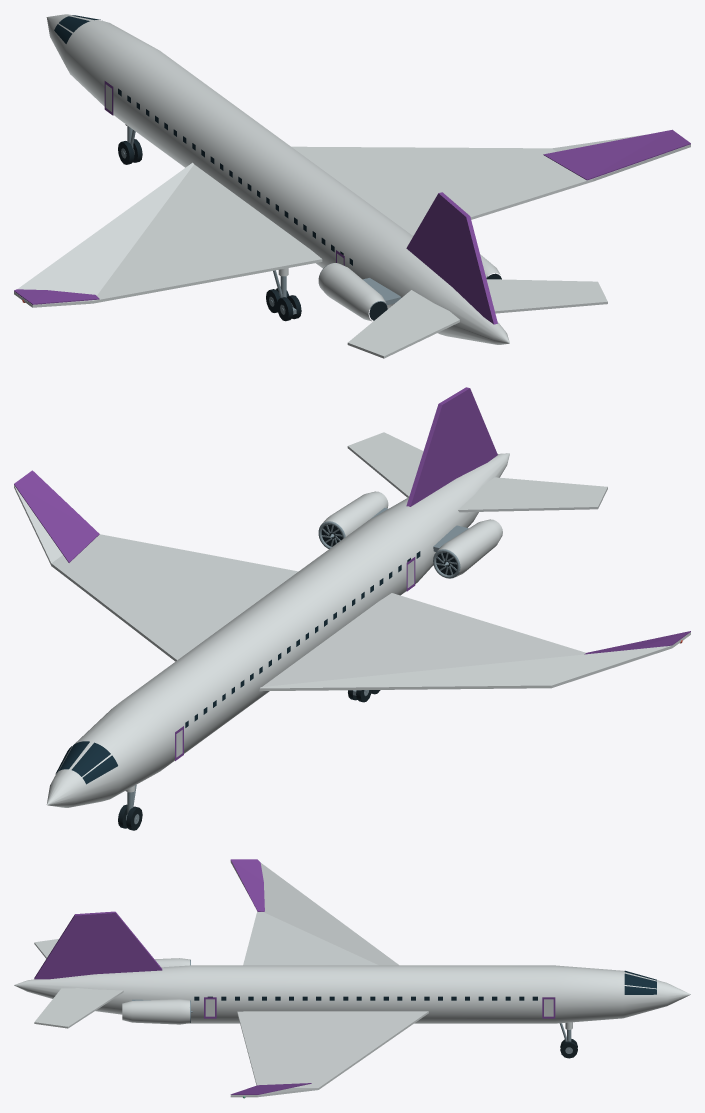
3 renders of one model, top to bottom at view 1: azimuth 30°, elevation 25°; view 2: azimuth 150°, elevation 25°; view 3: azimuth 270°, elevation 25°, orthographic. The views are drawn at different scales.
Visible parts, largest first — view 1: 银燕 J-90 original airliner, landing-gear; view 2: 银燕 J-90 original airliner, landing-gear; view 3: 银燕 J-90 original airliner, landing-gear.
Part boxes in pixels (x1,y1,x2,y2): 银燕 J-90 original airliner: (14, 14, 690, 358); landing-gear: (118, 124, 301, 321); 银燕 J-90 original airliner: (14, 387, 690, 807); landing-gear: (118, 690, 380, 830); 银燕 J-90 original airliner: (14, 859, 690, 1098); landing-gear: (559, 1022, 577, 1058).
Size of the model in its own units: 29.46 by 8.4 by 35.8.
